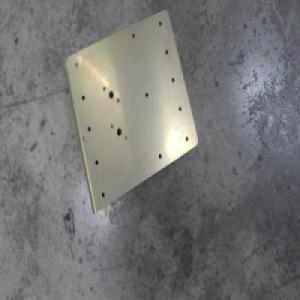MetalSheet: (61, 7, 198, 216)
